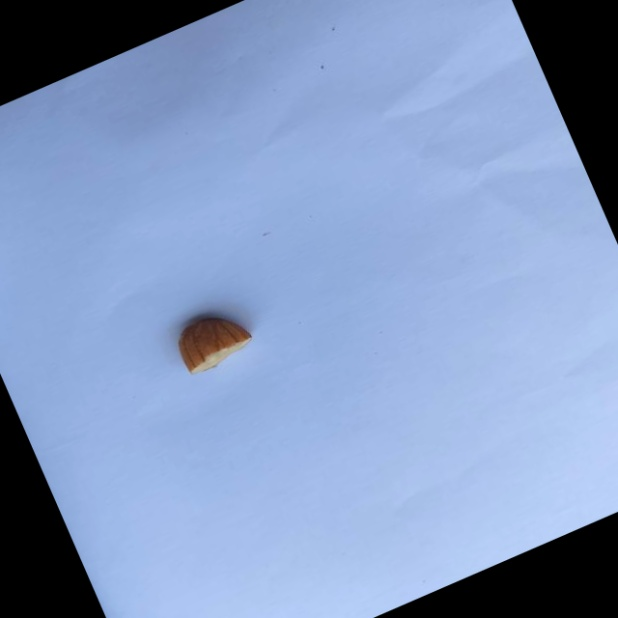grade4: (162, 294, 266, 384)
